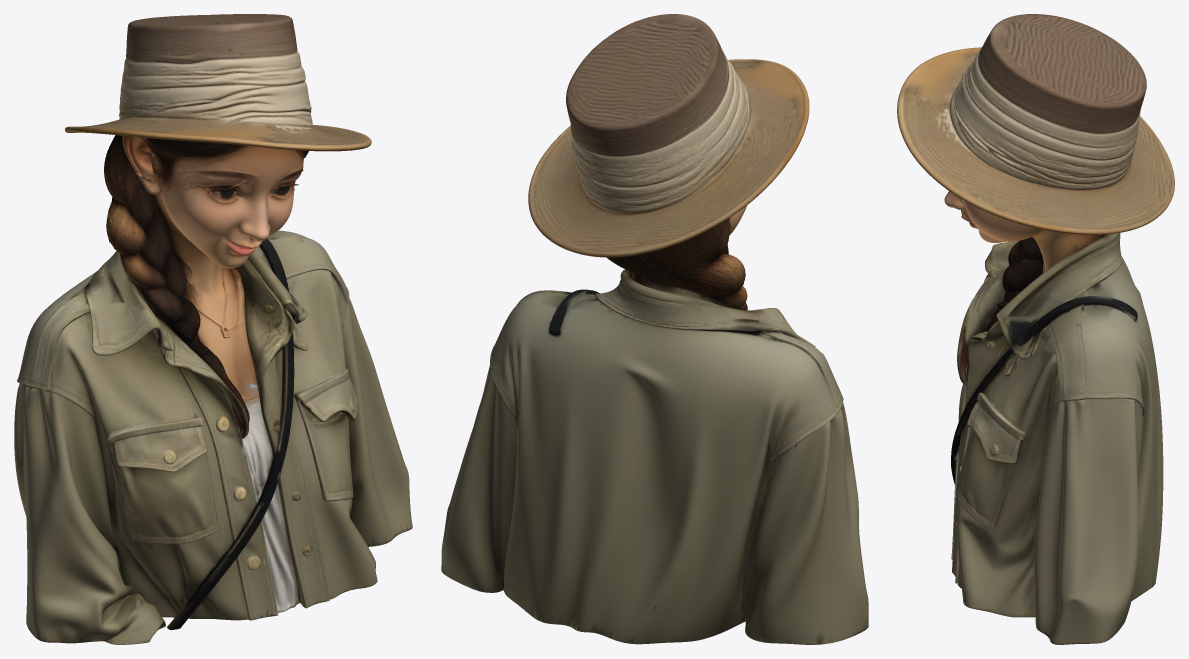
The model's file is character.glb.
3 renders of one model, left to right at view 1: azimuth 30°, elevation 25°; view 2: azimuth 150°, elevation 25°; view 3: azimuth 270°, elevation 25°, orthographic. The views are drawn at different scales.
Visible parts, largest first — view 1: node_0; view 2: node_0; view 3: node_0.
Part boxes in pixels (bbox=[...]): node_0: bbox=[14, 14, 412, 644]; node_0: bbox=[441, 14, 868, 644]; node_0: bbox=[897, 14, 1174, 644].
Bounding box in the file's own units: 0.7021 × 0.9653 × 0.4623.
Materials: 1 (1 with a texture image).
